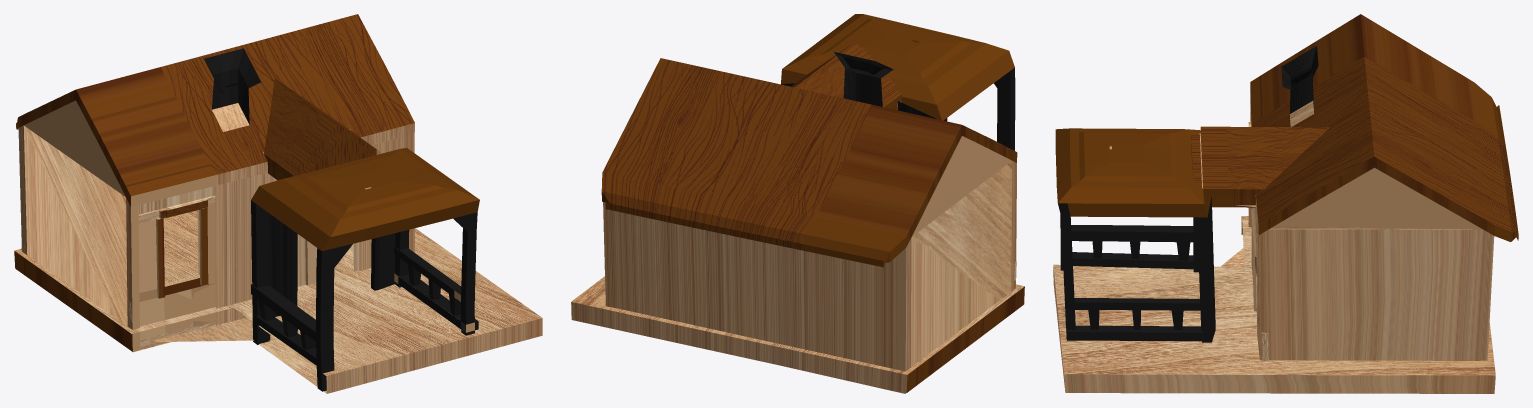
The model's file is balay.fbx.
3 views of the same model, side by side, from view 1: azimuth 30°, elevation 25°; view 2: azimuth 150°, elevation 25°; view 3: azimuth 270°, elevation 25° (orthographic).
Parts seen in each view (by area): view 1: Plane; view 2: Plane; view 3: Plane.
Part boxes in pixels (x1,y1,x2,y2): Plane: [14, 14, 542, 393]; Plane: [571, 14, 1024, 393]; Plane: [1053, 14, 1518, 393].
Bounding box in the file's own units: 118 × 84.91 × 144.
